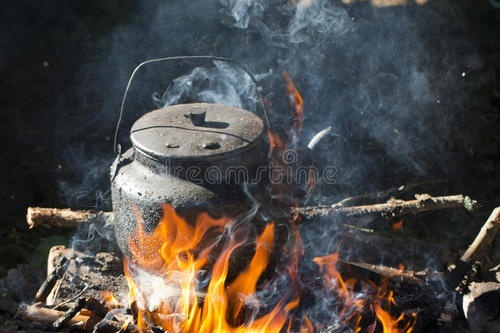fire: (127, 193, 437, 333)
